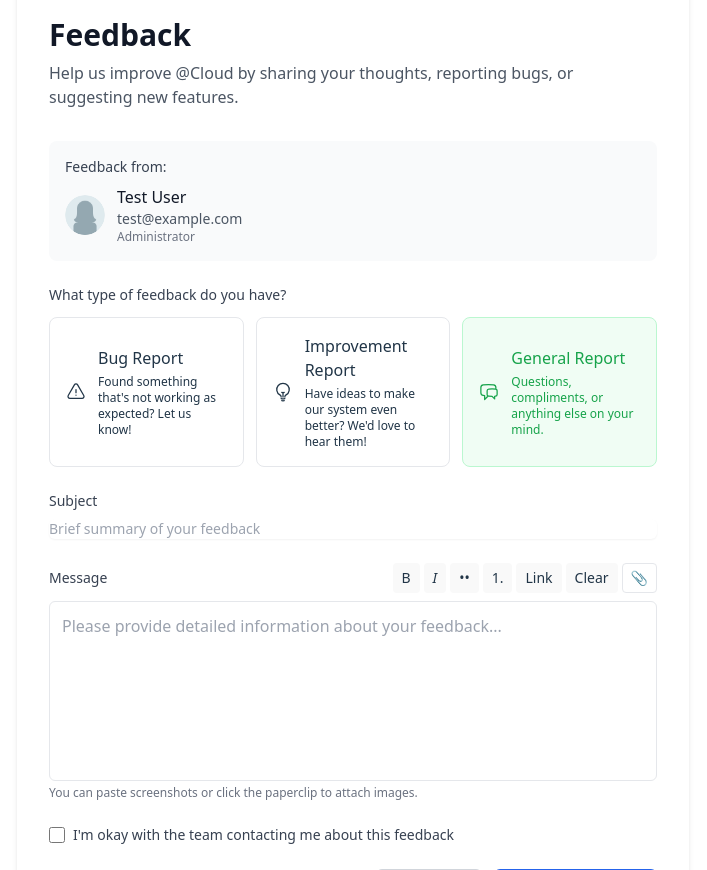
it: Feedback page › validates subject field minimum length
Type "Hi" into the field labelled "Subject" at [353, 529], box [49, 519, 657, 539]
(page scrolled)
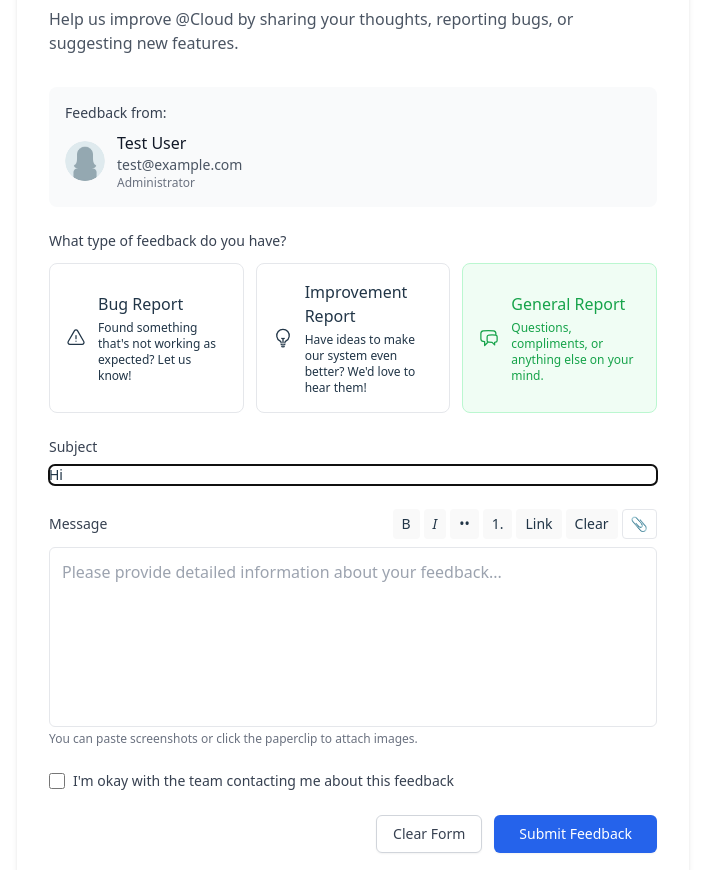
Click the button "Submit Feedback" at [576, 834], box [494, 815, 657, 853]
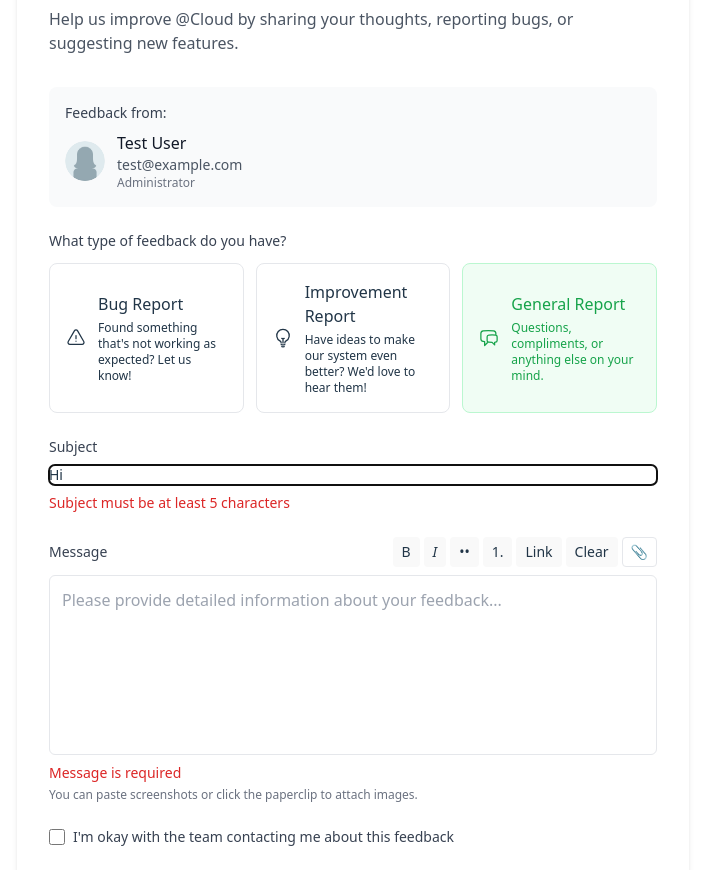
Result: the text "Subject must be at least 5 characters" is shown at [49, 493, 290, 512]
